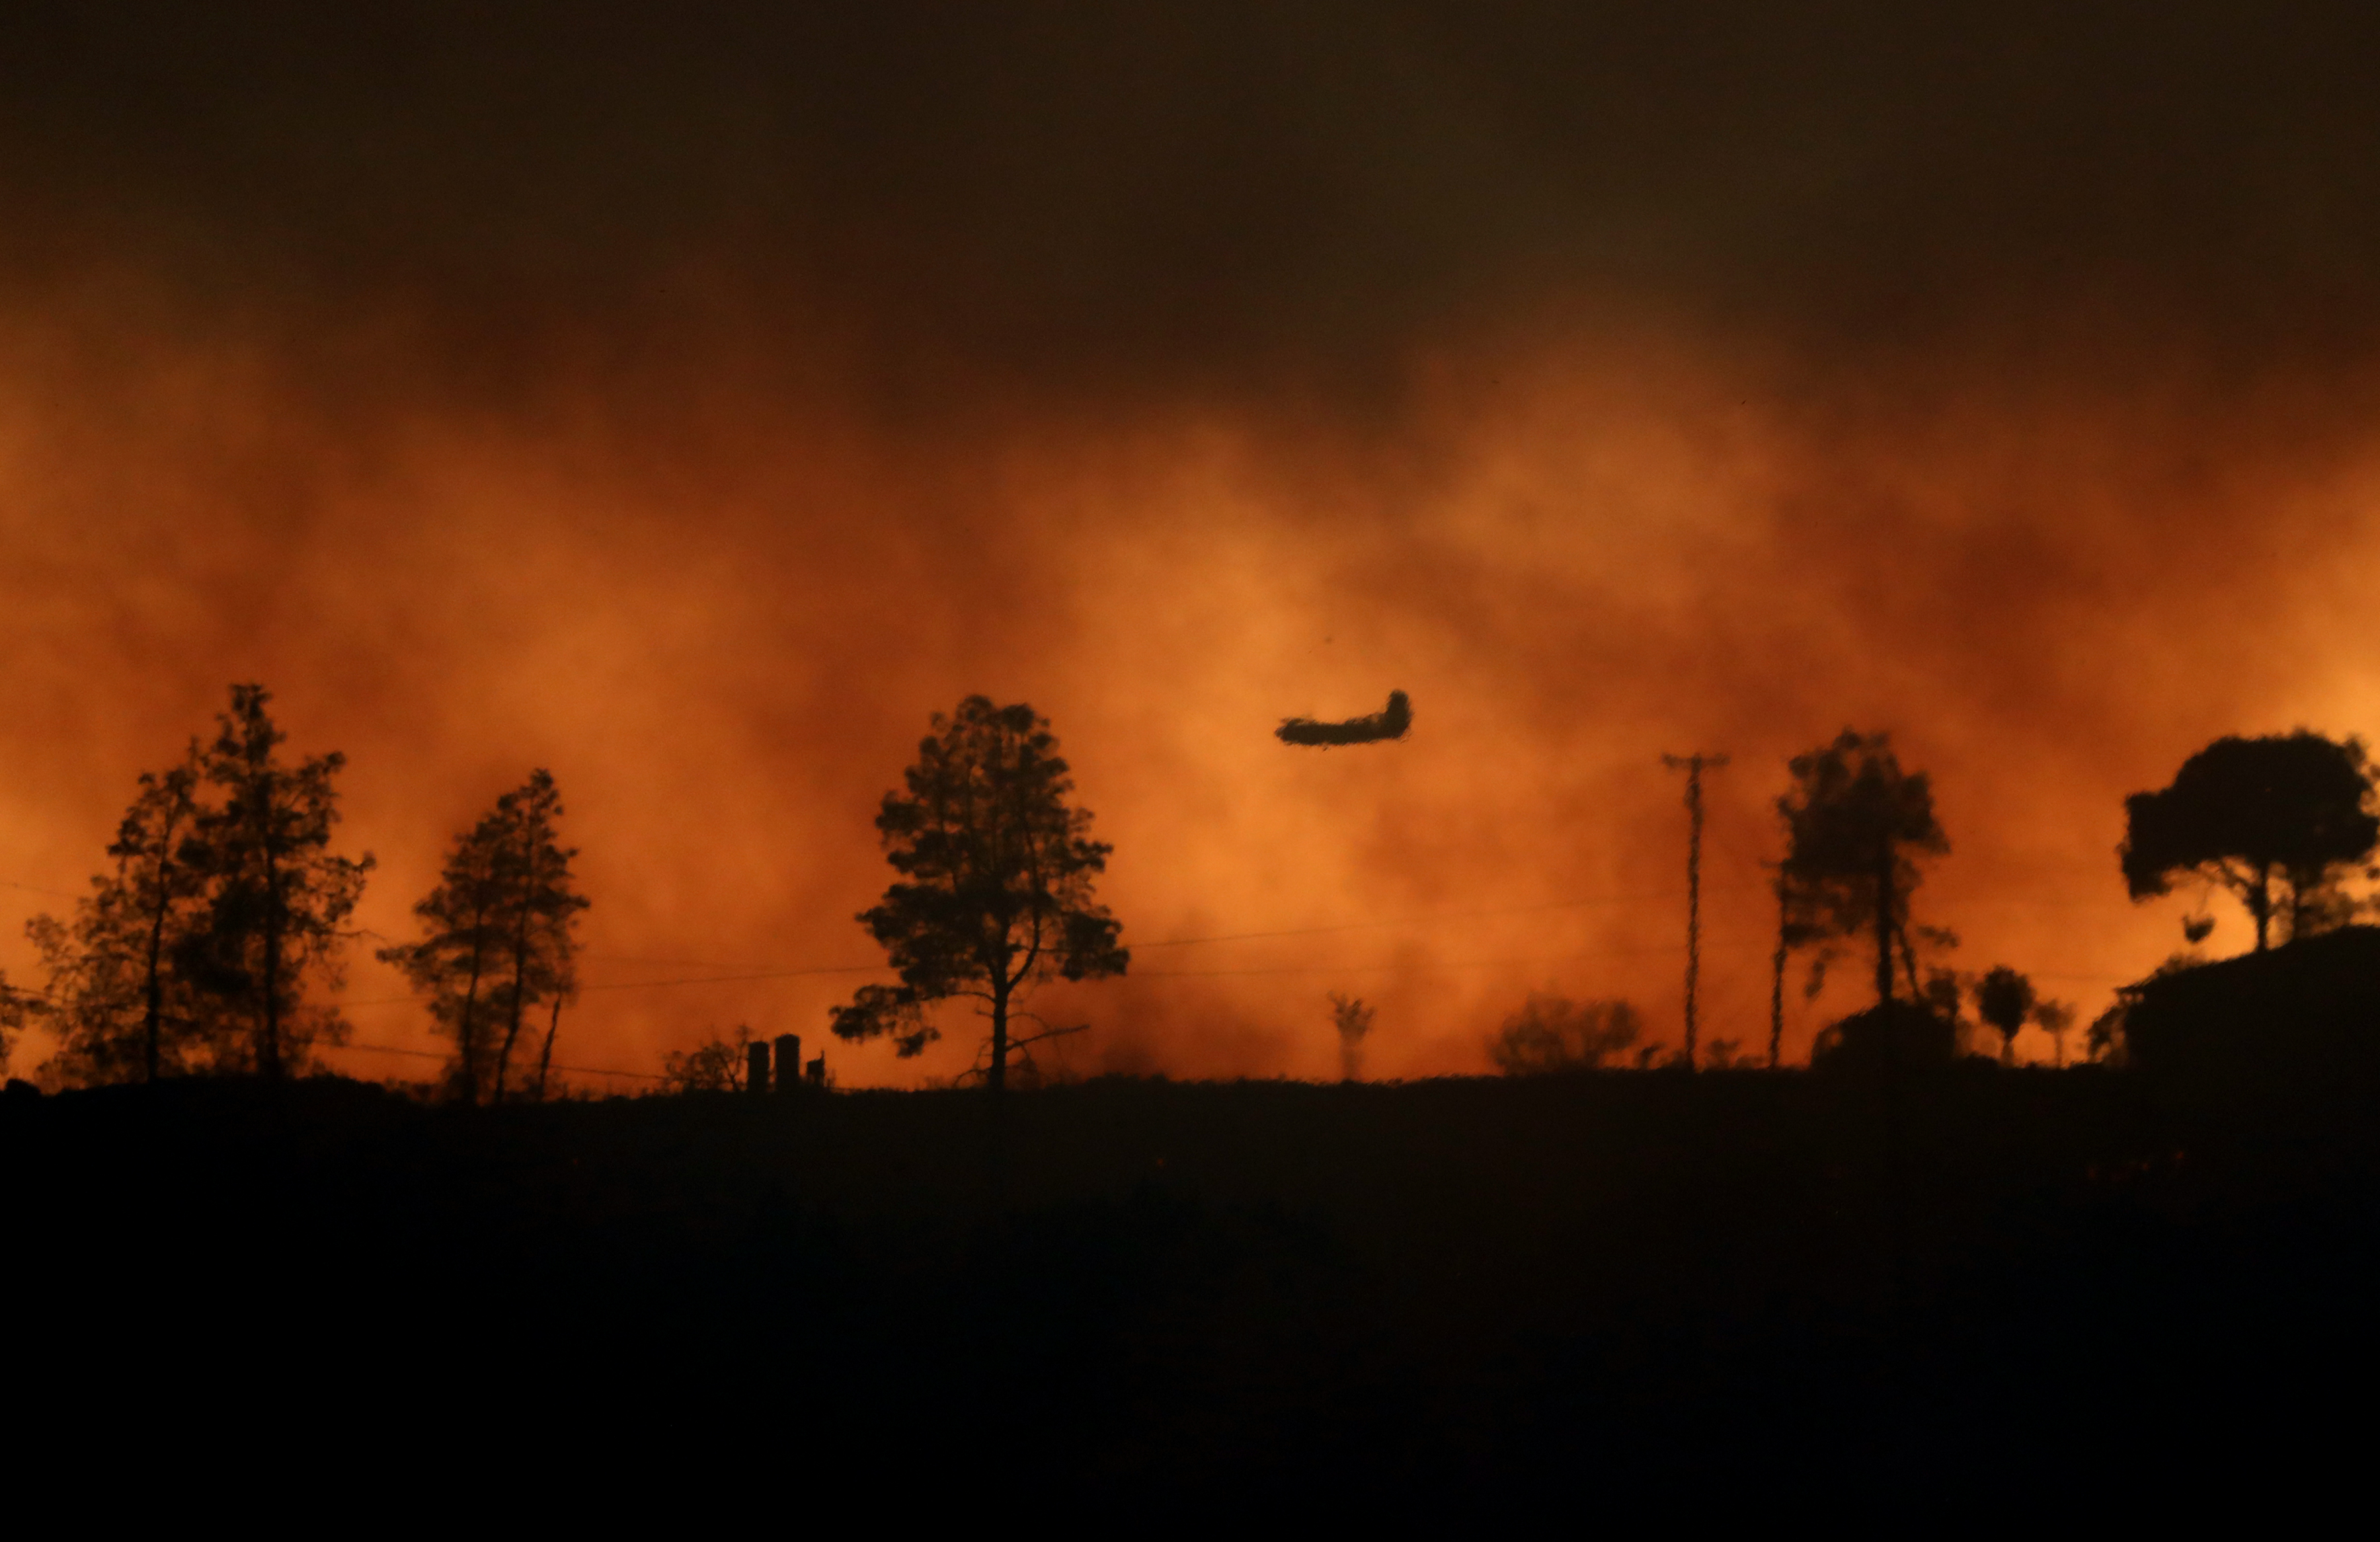Fire: (609, 628, 821, 905), (1953, 696, 2122, 956)
